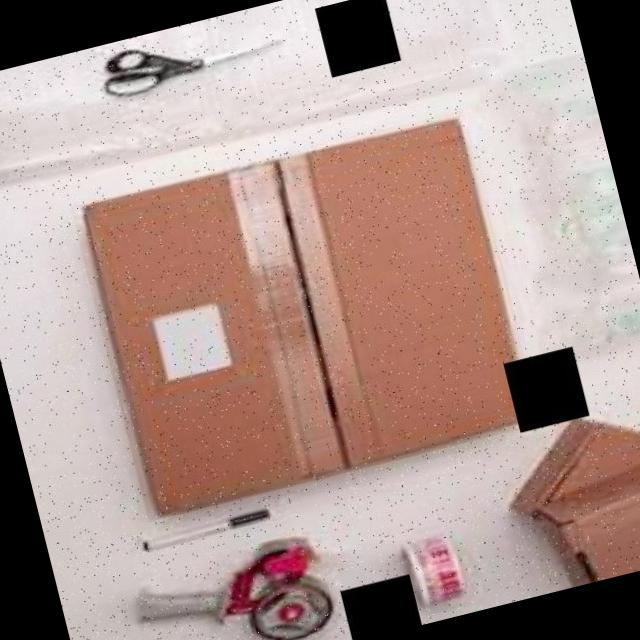box: (70, 109, 542, 522)
